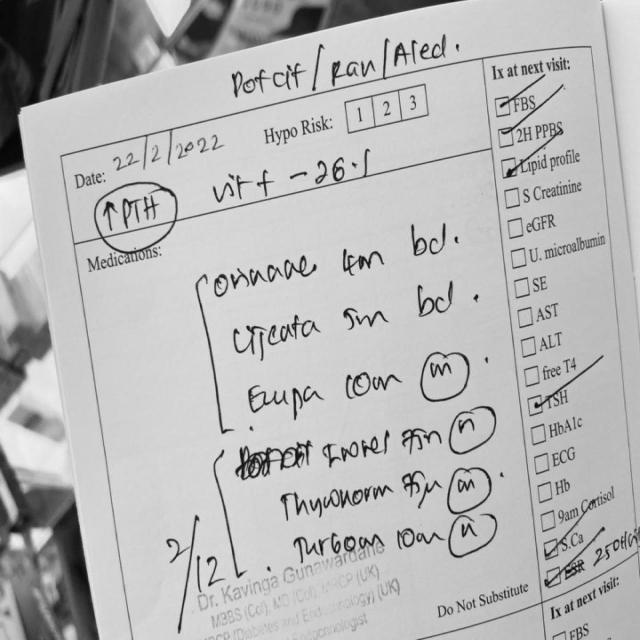Prescription: (228, 264, 463, 380), (207, 211, 455, 313), (243, 341, 481, 431), (270, 457, 510, 532), (316, 403, 513, 483), (287, 508, 504, 574)
